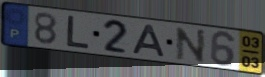2: (101, 19, 131, 57)
6: (208, 30, 237, 68)
8: (33, 11, 59, 46)
A: (131, 23, 167, 59)
L: (65, 14, 91, 51)
N: (174, 26, 208, 65)
